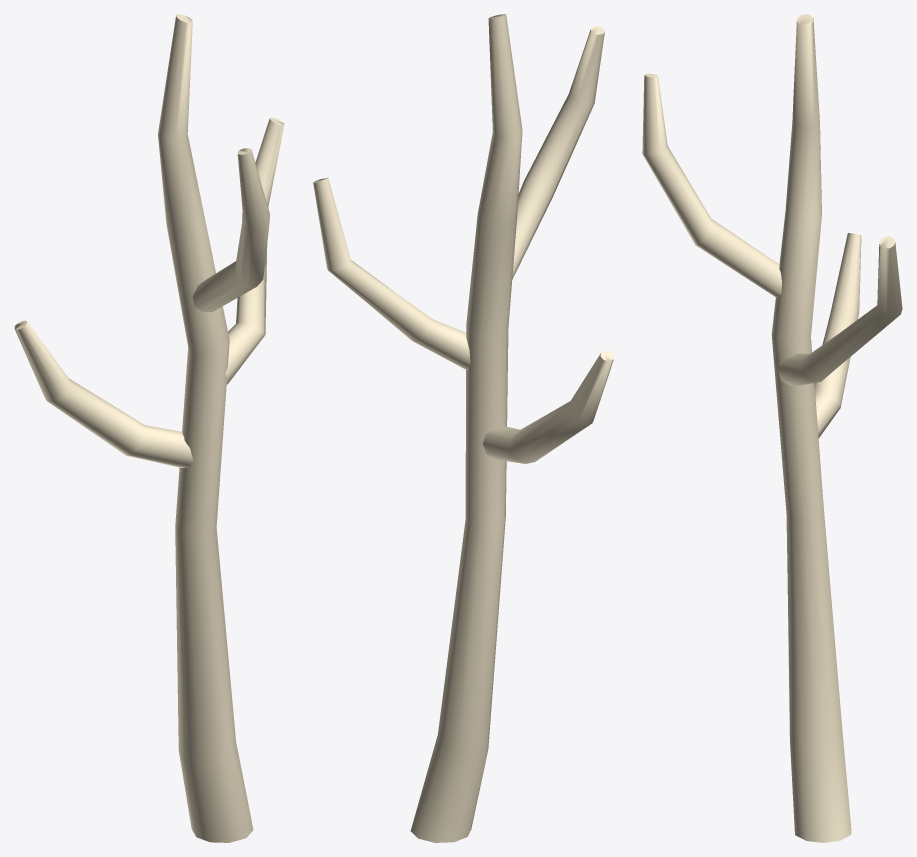
File: TreeTrunk_19.fbx
3 views of the same model, side by side, from view 1: azimuth 30°, elevation 25°; view 2: azimuth 150°, elevation 25°; view 3: azimuth 270°, elevation 25° (orthographic). The views are drawn at different scales.
Parts seen in each view (by area): view 1: TreeTrunk_19; view 2: TreeTrunk_19; view 3: TreeTrunk_19.
Part boxes in pixels (x1,y1,x2,y2): TreeTrunk_19: (14, 14, 284, 842); TreeTrunk_19: (313, 14, 613, 842); TreeTrunk_19: (642, 14, 902, 842).
Size of the model in its own units: 164 by 458 by 136.
